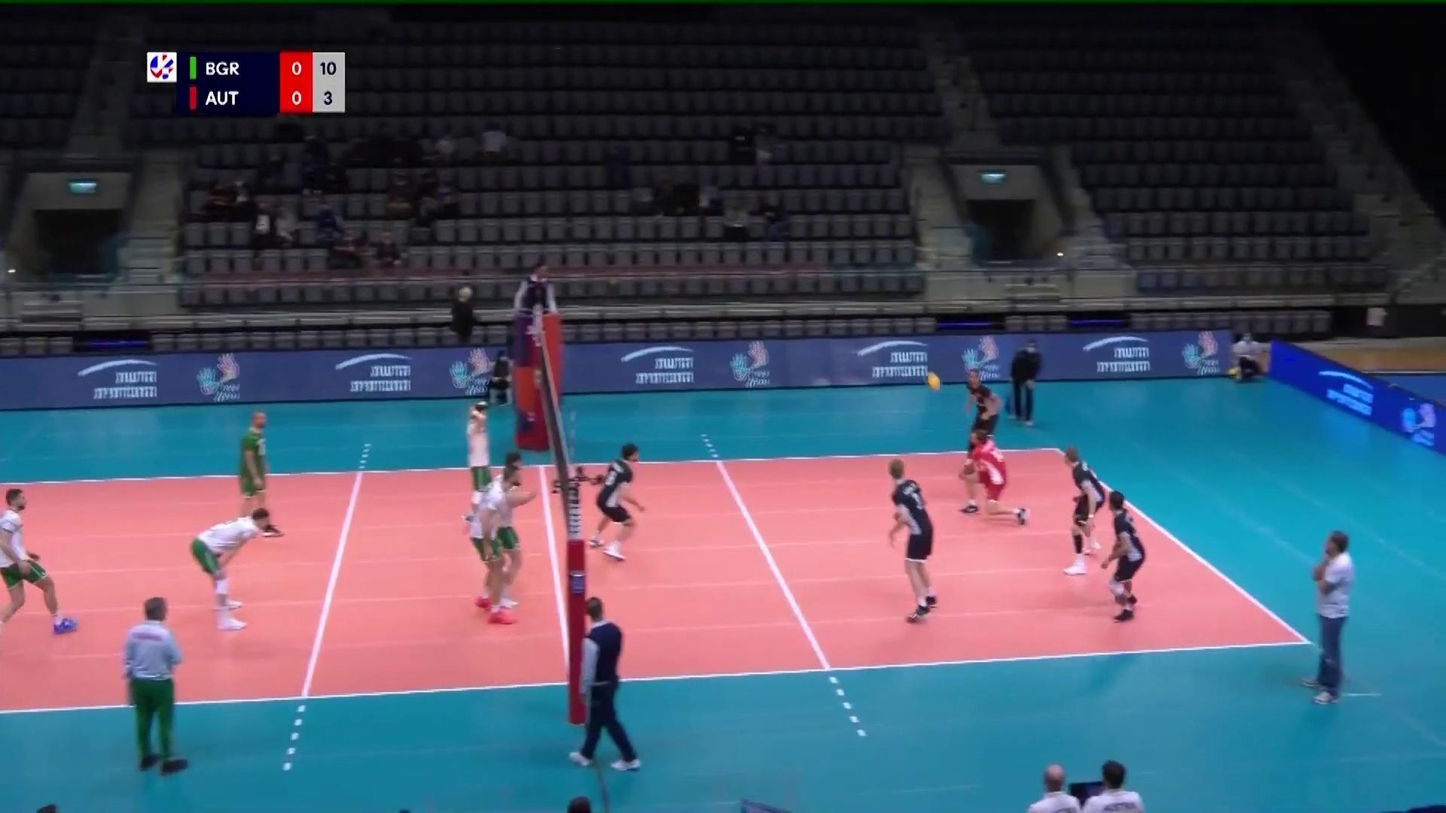ball: (926, 372, 942, 393)
